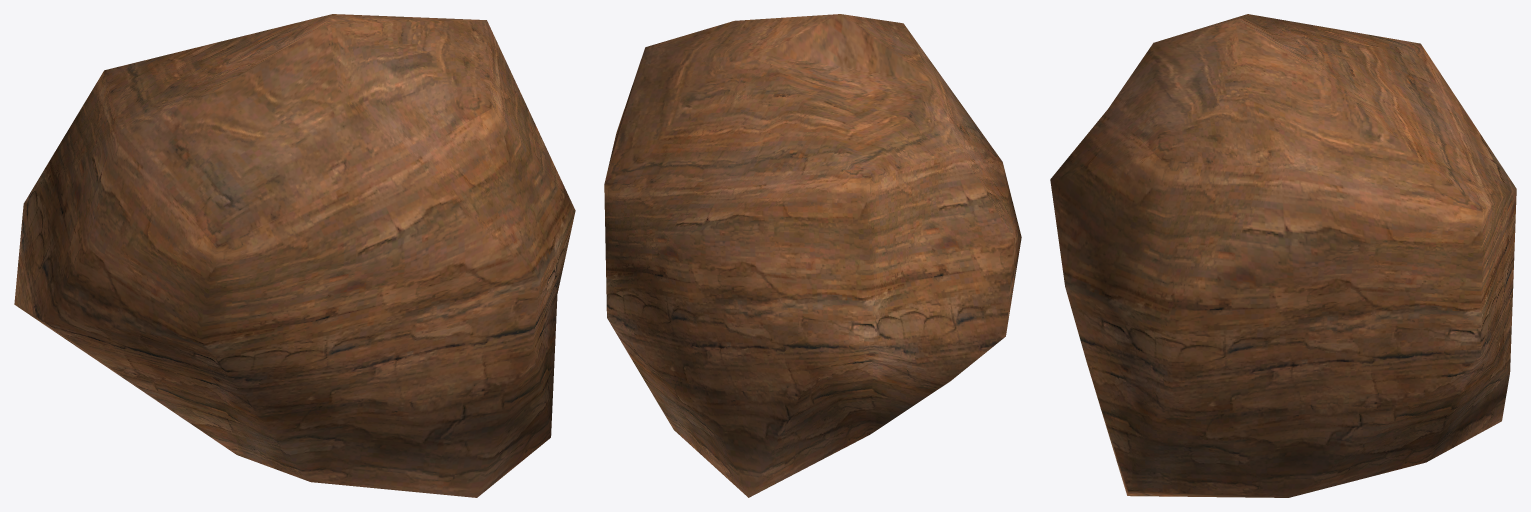
Rendered from rock_tatt_jundland_boulder_a5_l3.fbx.
3 views of the same model, side by side, from view 1: azimuth 30°, elevation 25°; view 2: azimuth 150°, elevation 25°; view 3: azimuth 270°, elevation 25° (orthographic). The views are drawn at different scales.
Visible parts, largest first — view 1: mesh_node; view 2: mesh_node; view 3: mesh_node.
Part boxes in pixels (box(x1,y1,x2,y2)): mesh_node: box(14, 14, 575, 497); mesh_node: box(604, 14, 1021, 497); mesh_node: box(1050, 14, 1516, 497).
Size of the model in its own units: 2.67 by 2.57 by 2.52.
